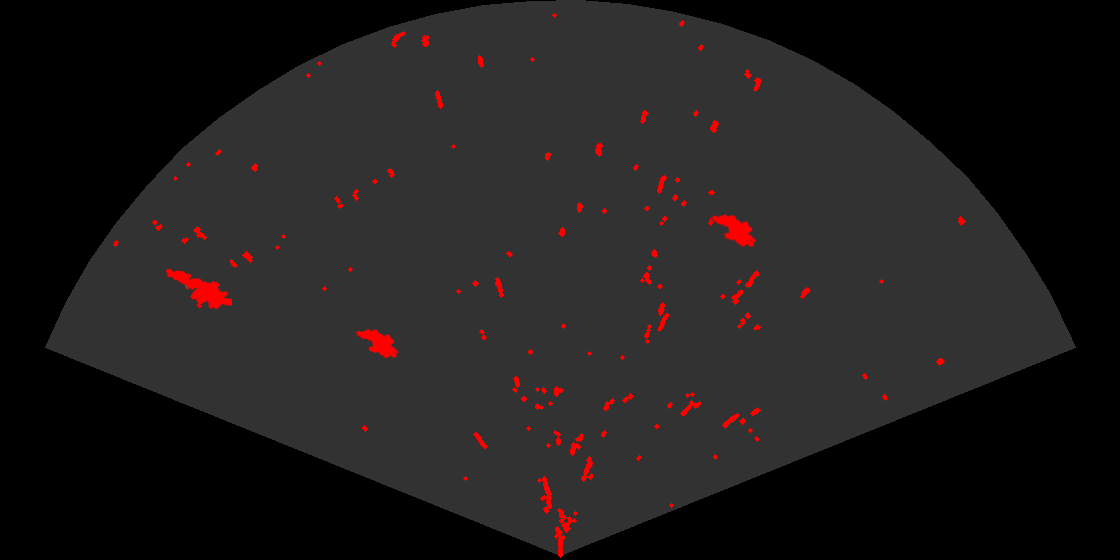AUV: (710, 213, 758, 249), (354, 328, 400, 360)
frogman: (164, 267, 232, 311)
